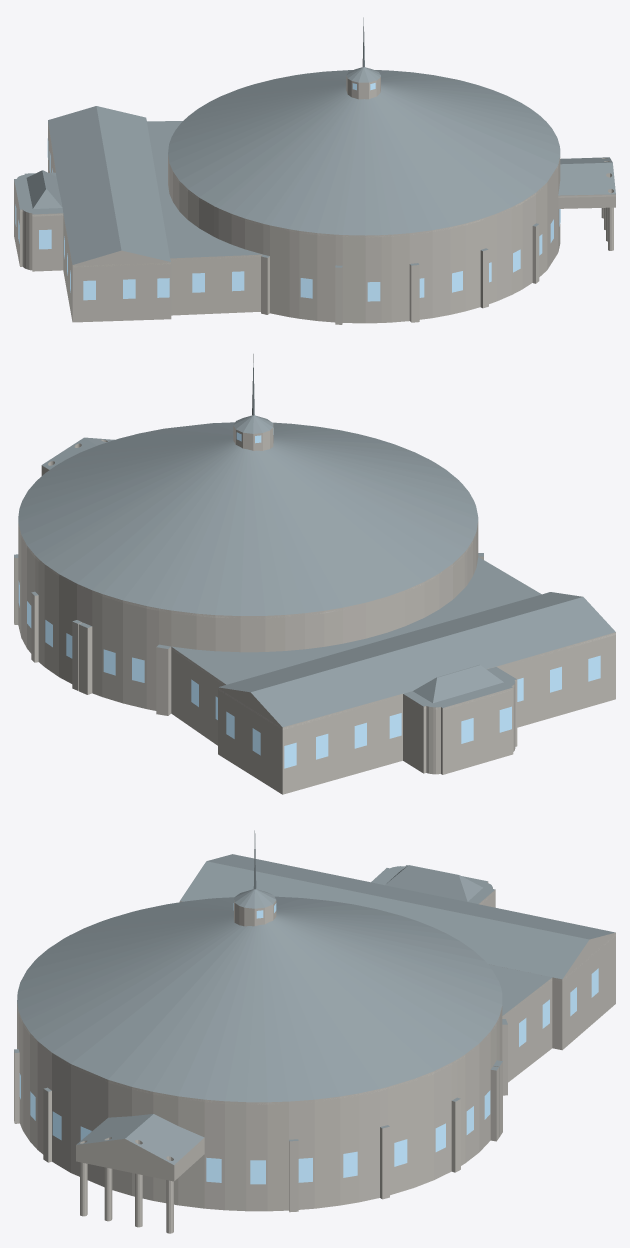
3 views of the same model, one above another, from view 1: azimuth 30°, elevation 25°; view 2: azimuth 150°, elevation 25°; view 3: azimuth 270°, elevation 25° (orthographic). The views are drawn at different scales.
Visible parts, largest first — view 1: roof, stone, window, trim; view 2: roof, stone, window, trim; view 3: roof, stone, window.
Boxes of the visible parts, x1,y1,x2,y2 form: roof: (14,17,615,267); stone: (14,76,615,324); window: (15,83,560,301); trim: (21,125,615,267); roof: (14,354,615,727); stone: (14,424,615,794); window: (18,428,600,768); trim: (18,465,615,729); roof: (14,830,615,1164); stone: (14,882,615,1233); window: (19,903,598,1184).
Size of the model in its own units: 61.14 by 26 by 50.03.
